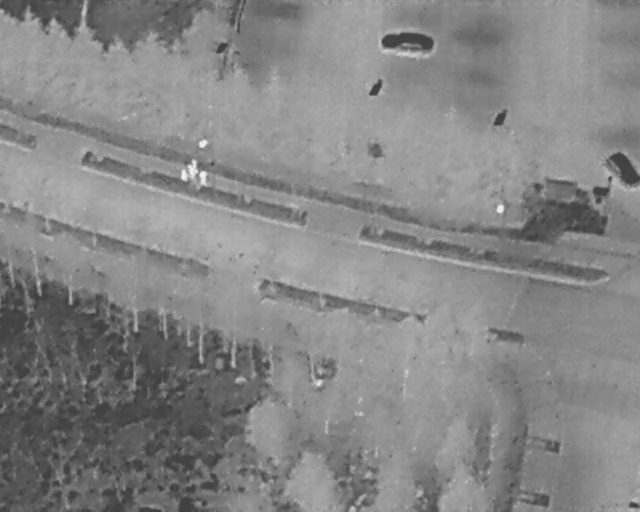Car: (523, 176, 611, 235), (604, 151, 639, 190), (379, 31, 435, 52)
Person: (198, 170, 208, 188), (187, 162, 196, 182), (180, 168, 188, 188), (191, 157, 199, 175)
